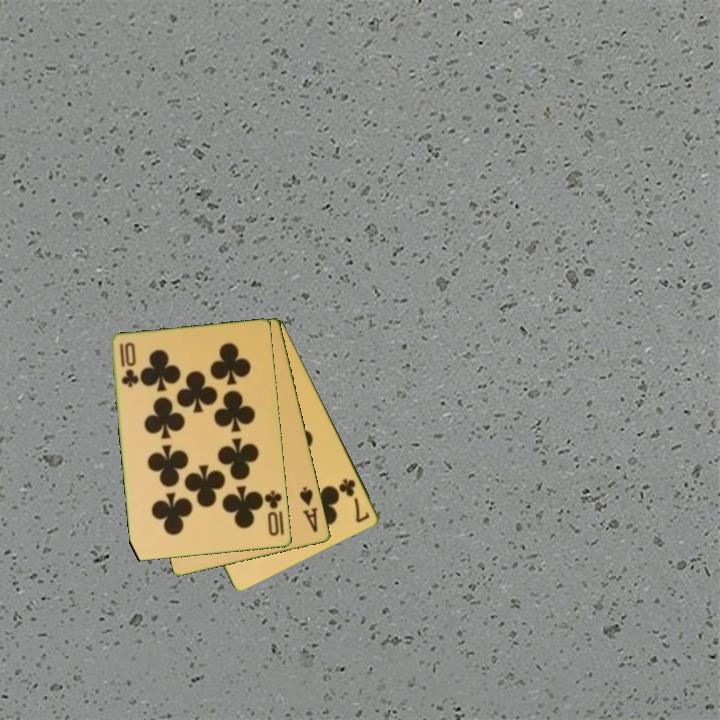10c: (261, 487, 285, 539), (117, 339, 140, 391)
7c: (336, 475, 373, 526)
As: (296, 483, 321, 535)
